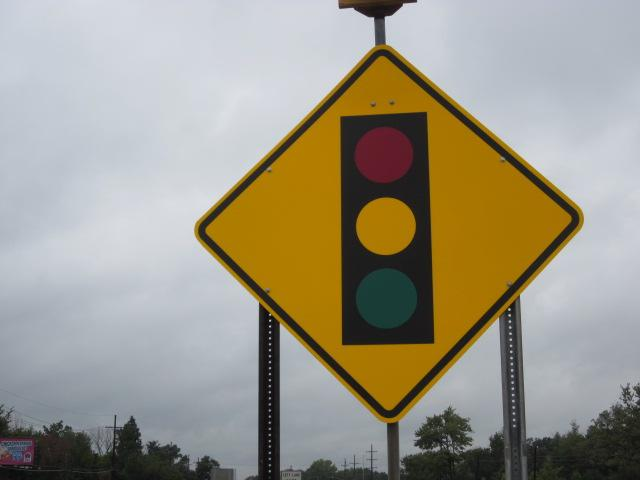warning: (190, 46, 595, 426)
